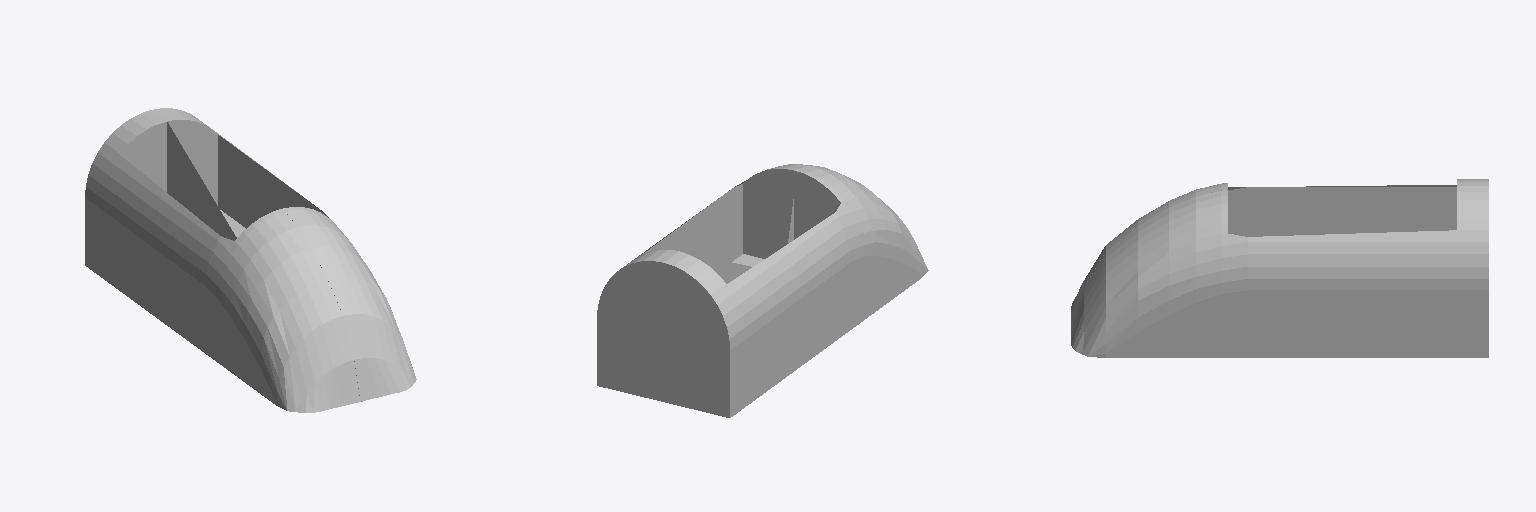
File: train.obj
3 renders of one model, left to right at view 1: azimuth 30°, elevation 25°; view 2: azimuth 150°, elevation 25°; view 3: azimuth 270°, elevation 25°, orthographic.
Visible parts, largest first — view 1: engine; view 2: engine; view 3: engine.
Boxes of the visible parts, x1=… form: engine: x1=85, y1=108, x2=416, y2=412; engine: x1=597, y1=164, x2=928, y2=417; engine: x1=1071, y1=179, x2=1488, y2=357.
Size of the model in its own units: 2 by 2 by 5.43.